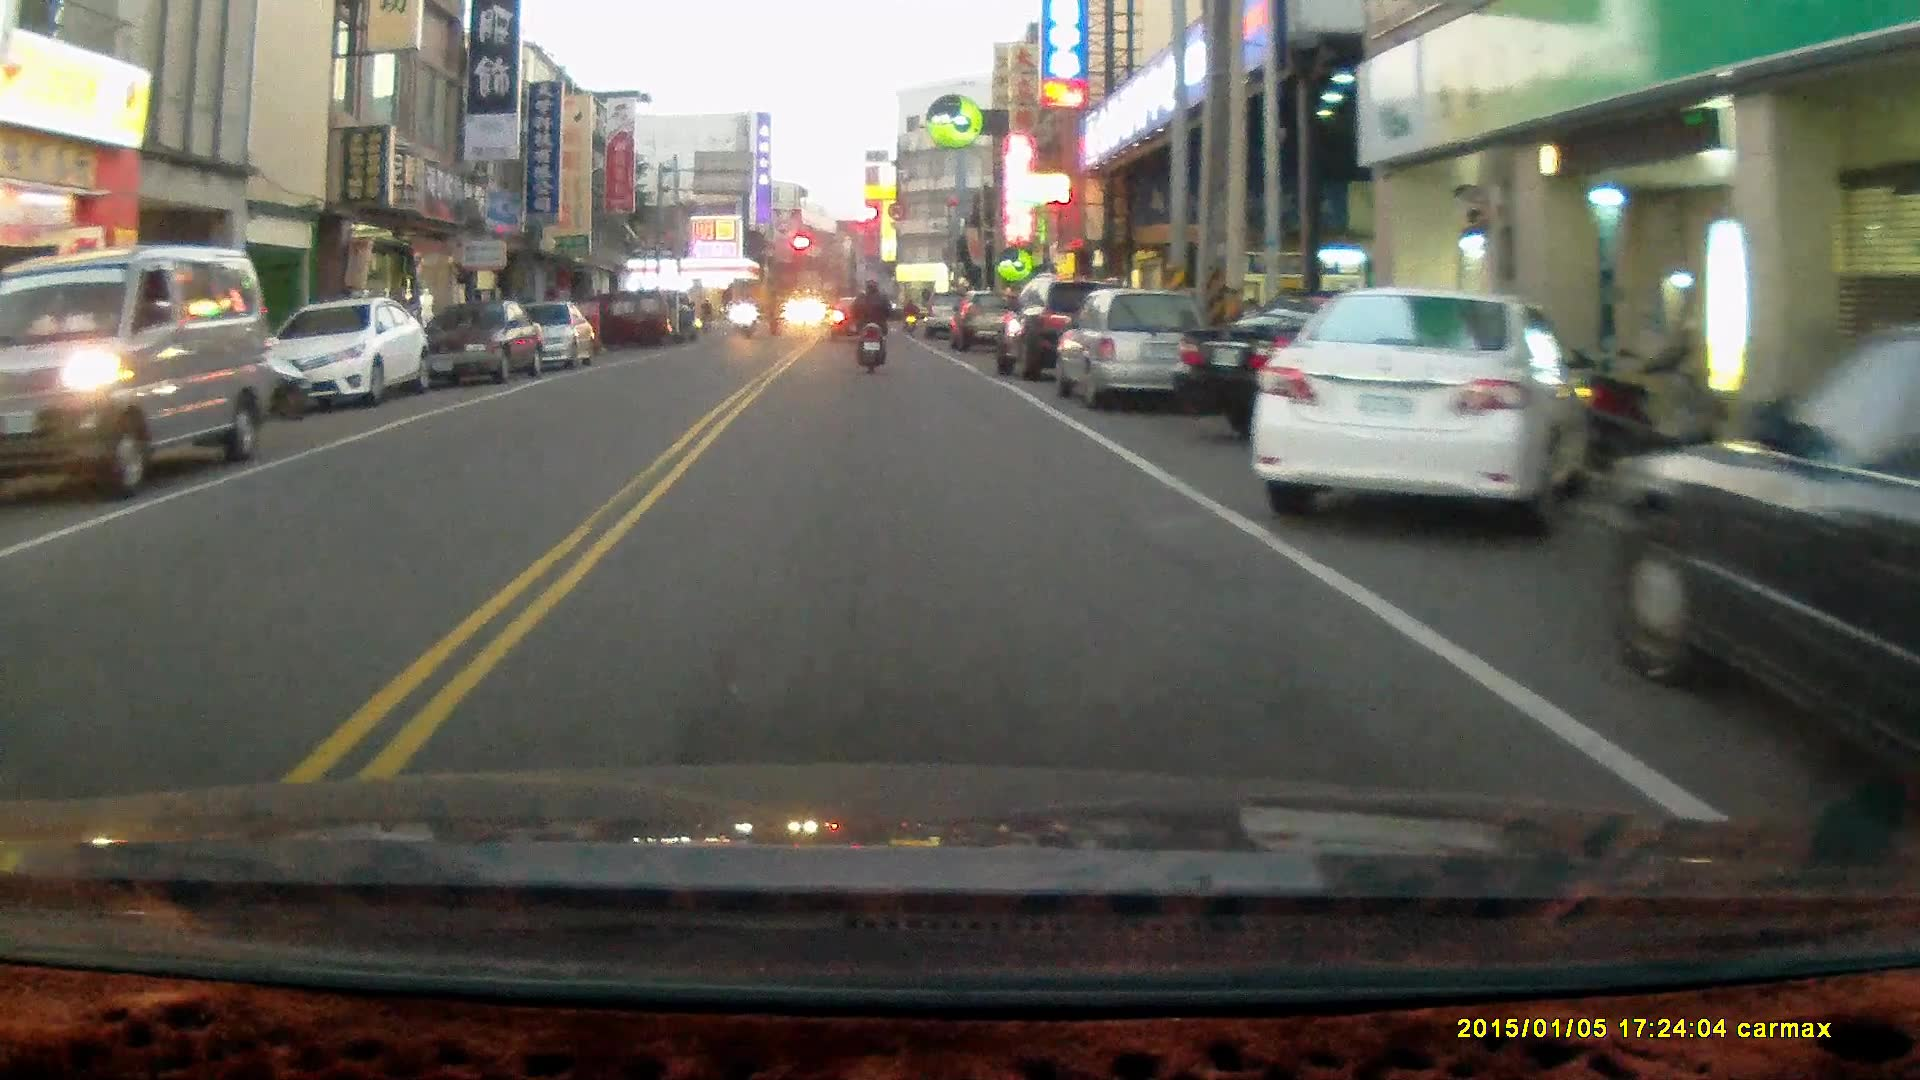rider: (255, 330, 308, 420), (849, 275, 892, 376), (733, 295, 756, 339)
vehicle: (1588, 318, 1920, 807), (1255, 289, 1590, 536), (2, 240, 284, 493), (1171, 295, 1536, 446), (1056, 286, 1221, 408), (267, 293, 429, 409), (991, 286, 1132, 377), (414, 297, 547, 384), (489, 300, 592, 375)
